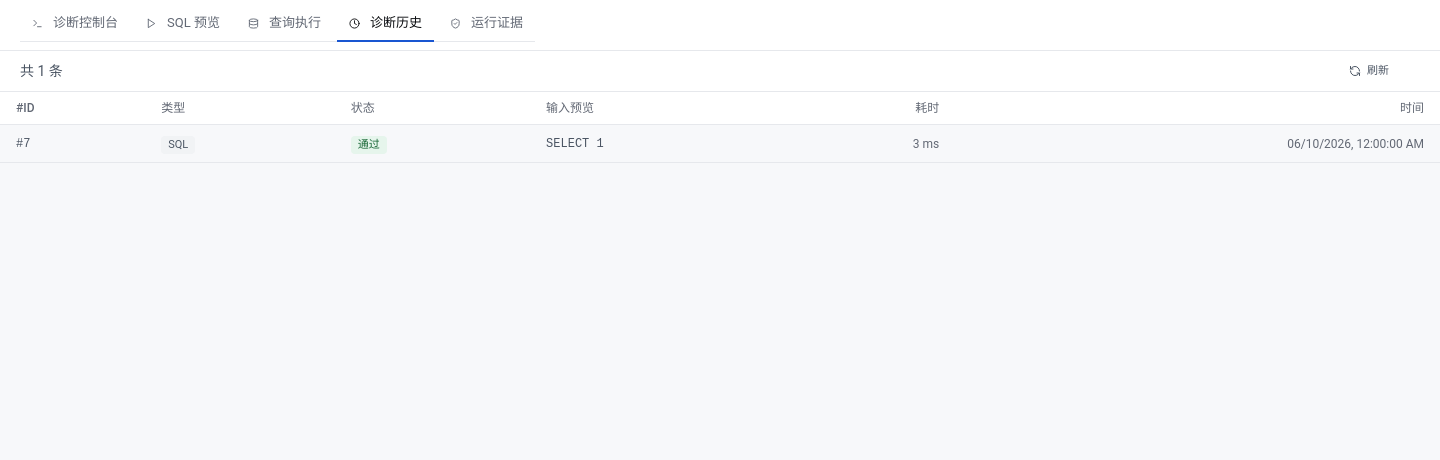
Test: DevTools › 诊断历史详情提供一键回放，回填诊断面板
Click the text "#7": [20, 144] box top-left (0, 124), bottom-right (145, 162)
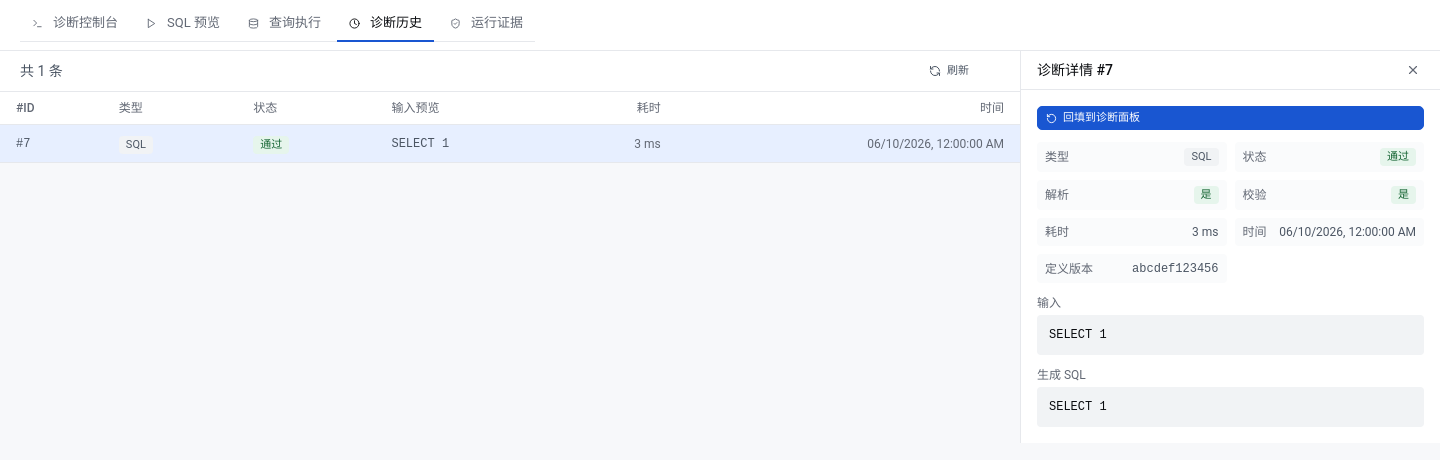
Click the button "回填到诊断面板": [1102, 117] box top-left (1037, 106), bottom-right (1424, 130)
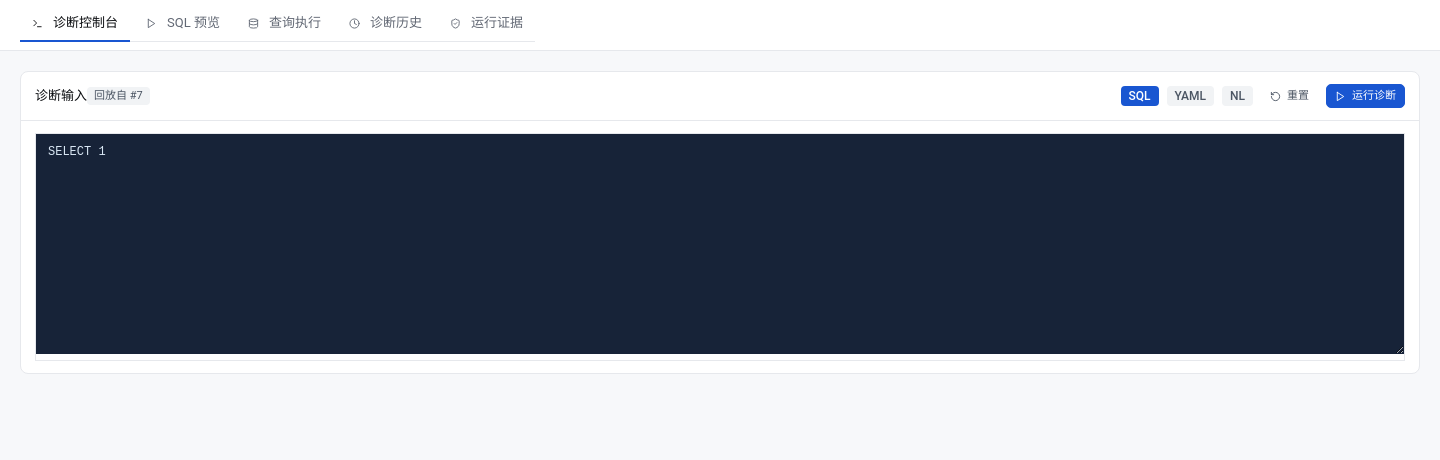
Expected: the text box named "诊断输入内容" holds "SELECT 1", top-left (36, 134), bottom-right (1404, 354)
Expected: the text "回放自 #7" is shown, top-left (87, 87), bottom-right (150, 105)
